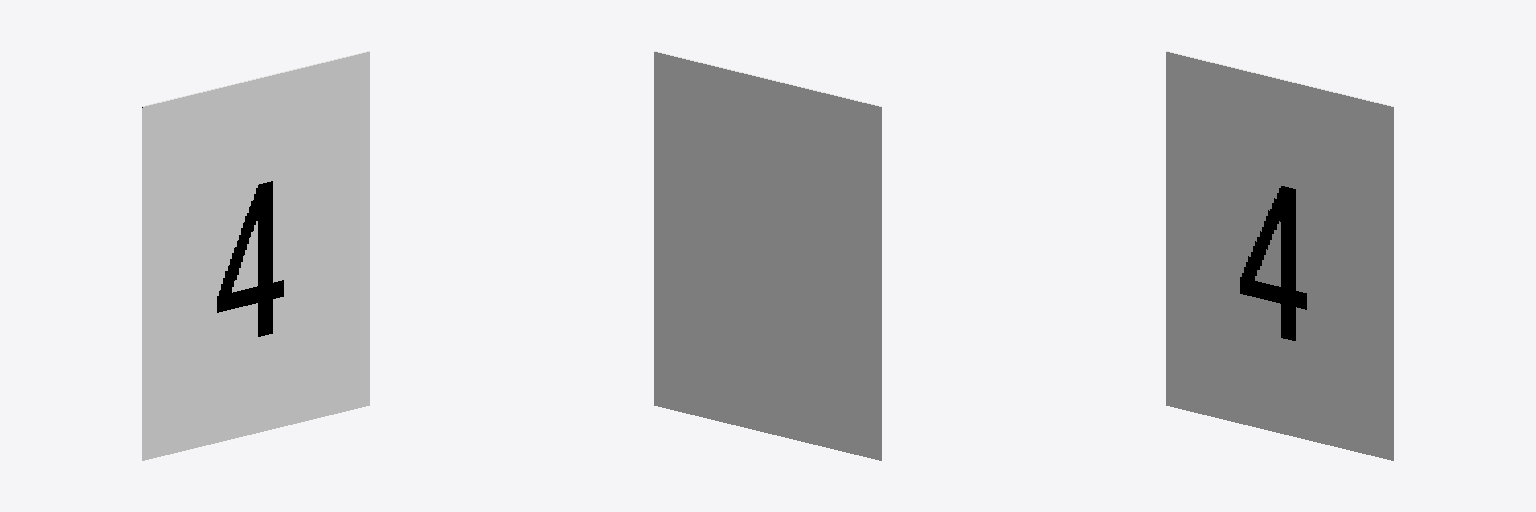
3 renders of one model, left to right at view 1: azimuth 30°, elevation 25°; view 2: azimuth 150°, elevation 25°; view 3: azimuth 330°, elevation 25°, orthographic.
Parts seen in each view (by area): view 1: Cube.001; view 2: Cube.001; view 3: Cube.001.
Part boxes in pixels (x1,y1,x2,y2): Cube.001: (142, 51, 369, 460); Cube.001: (654, 51, 881, 460); Cube.001: (1166, 51, 1393, 460).
Bounding box in the file's own units: 2.94 × 4.36 × 0.02.
Materials: 1 (1 with a texture image).